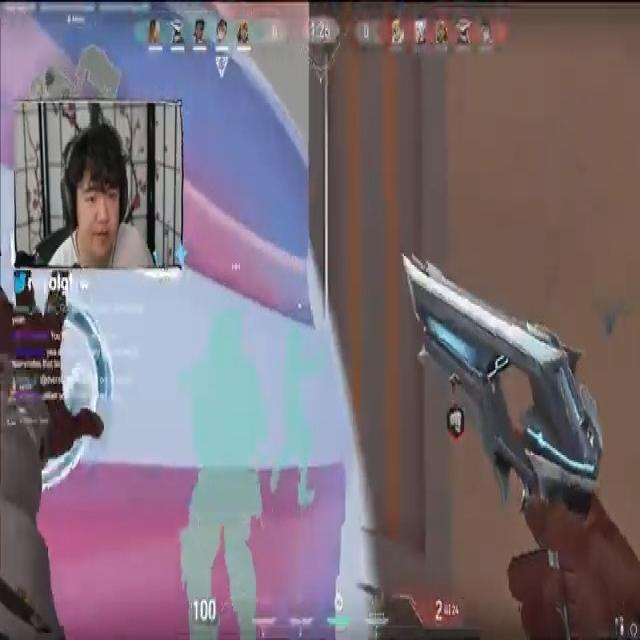ally behind wall: (183, 300, 258, 640), (266, 308, 330, 524)
smoke: (0, 12, 352, 638)
